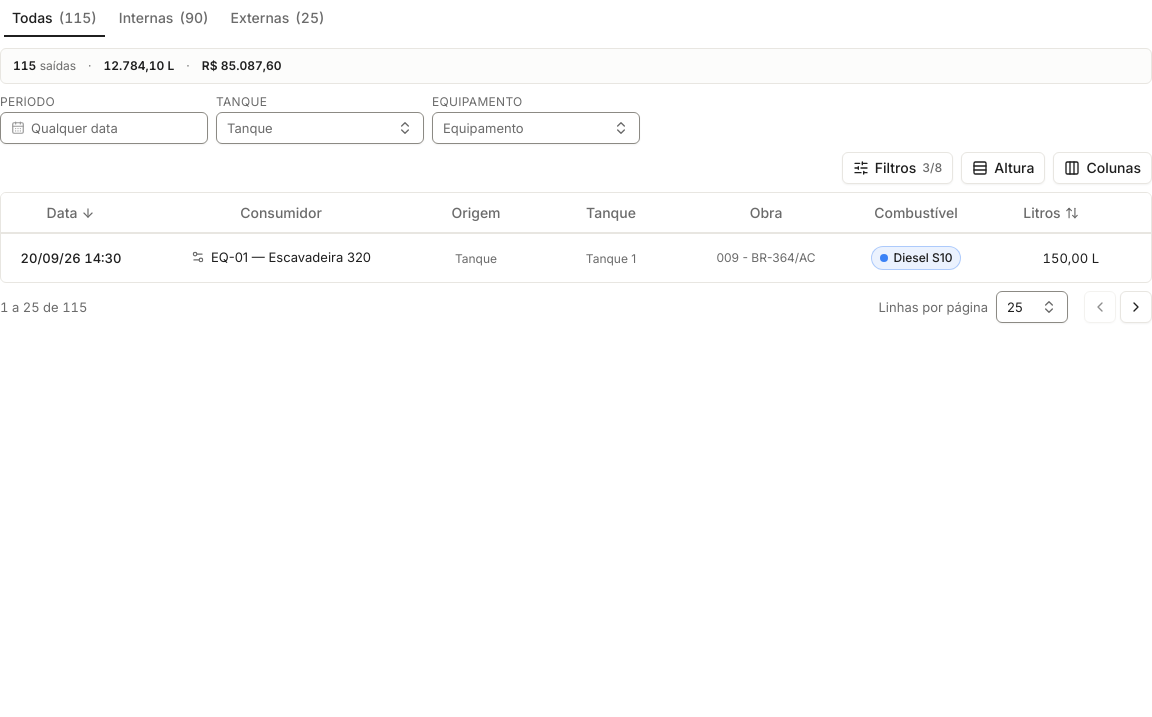
Test: AbastecimentosTabela › clique na linha abre o drawer de detalhe
Step 1. Click the text "EQ-01 — Escavadeira 320" → click(291, 256), box x1=211 y1=246 x2=371 y2=266
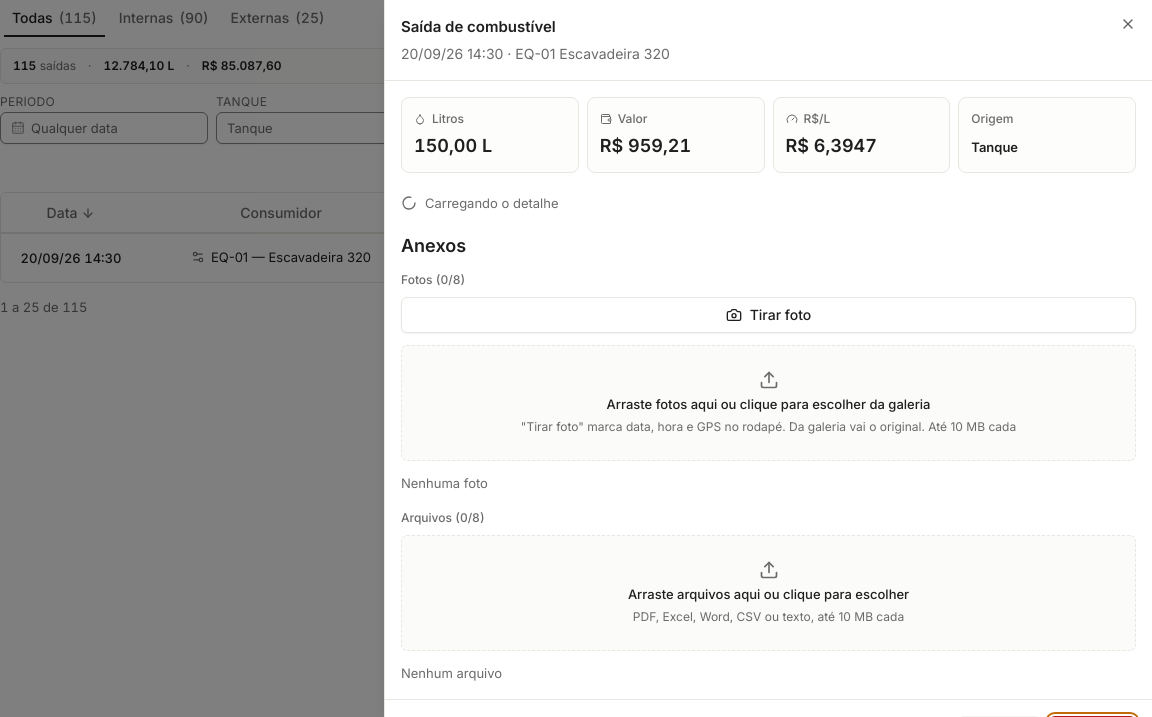
Check: the heading "Saída de combustível" is shown, box x1=401 y1=17 x2=556 y2=36
Check: the text "Carregando o detalhe" is shown, box x1=401 y1=195 x2=558 y2=211
